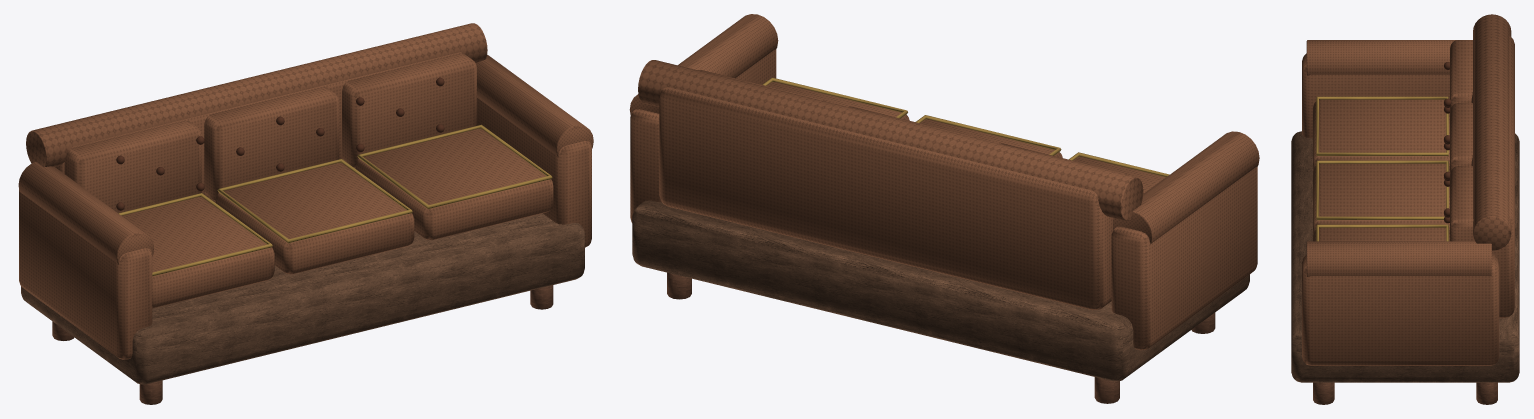
File: asset_067_clubhouse_lounge_sofa.glb
3 renders of one model, left to right at view 1: azimuth 30°, elevation 25°; view 2: azimuth 150°, elevation 25°; view 3: azimuth 270°, elevation 25°, orthographic. The views are drawn at different scales.
Parts seen in each view (by area): view 1: MESH_SofaSeatCushionSet, MESH_SofaBase, MESH_SofaBackCushionSet, MESH_SofaArmBlockSet, MESH_SofaBackRoll, MESH_SofaArmRollSet, MESH_SeatPipingSet, MESH_SofaBackPanel, MESH_SofaFootSet, MESH_SofaTuftButtonSet; view 2: MESH_SofaBackPanel, MESH_SofaBase, MESH_SofaArmBlockSet, MESH_SofaBackRoll, MESH_SofaArmRollSet, MESH_SofaSeatCushionSet, MESH_SeatPipingSet, MESH_SofaFootSet, MESH_SofaBackCushionSet; view 3: MESH_SofaArmBlockSet, MESH_SofaSeatCushionSet, MESH_SofaArmRollSet, MESH_SofaBase, MESH_SofaBackRoll, MESH_SofaBackCushionSet, MESH_SeatPipingSet, MESH_SofaBackPanel, MESH_SofaFootSet, MESH_SofaTuftButtonSet.
Boxes of the visible parts, box(x1,y1,x2,y2) form: MESH_SofaSeatCushionSet: box(122, 128, 553, 308); MESH_SofaBase: box(21, 213, 584, 384); MESH_SofaBackCushionSet: box(64, 53, 476, 213); MESH_SofaArmBlockSet: box(19, 98, 591, 359); MESH_SofaBackRoll: box(26, 23, 487, 167); MESH_SofaArmRollSet: box(18, 55, 593, 264); MESH_SeatPipingSet: box(118, 124, 552, 276); MESH_SofaBackPanel: box(55, 52, 461, 202); MESH_SofaFootSet: box(52, 285, 553, 404); MESH_SofaTuftButtonSet: box(116, 77, 444, 210); MESH_SofaBackPanel: box(659, 87, 1113, 310); MESH_SofaBase: box(632, 200, 1249, 381); MESH_SofaArmBlockSet: box(630, 49, 1257, 350); MESH_SofaBackRoll: box(638, 60, 1143, 220); MESH_SofaArmRollSet: box(629, 14, 1259, 244); MESH_SofaSeatCushionSet: box(767, 82, 1165, 193); MESH_SeatPipingSet: box(762, 77, 1169, 177); MESH_SofaFootSet: box(667, 272, 1215, 403); MESH_SofaBackCushionSet: box(697, 70, 1127, 174); MESH_SofaArmBlockSet: box(1302, 53, 1499, 365); MESH_SofaSeatCushionSet: box(1313, 99, 1449, 241); MESH_SofaArmRollSet: box(1306, 40, 1491, 276); MESH_SofaBase: box(1291, 131, 1519, 382); MESH_SofaBackRoll: box(1473, 14, 1511, 250); MESH_SofaBackCushionSet: box(1450, 40, 1474, 241); MESH_SeatPipingSet: box(1316, 96, 1448, 241); MESH_SofaBackPanel: box(1471, 36, 1514, 318); MESH_SofaFootSet: box(1313, 382, 1497, 404); MESH_SofaTuftButtonSet: box(1444, 62, 1451, 223).
Bounding box in the file's own units: 2.15 × 0.9 × 0.95.
6 materials, 5 textured.
